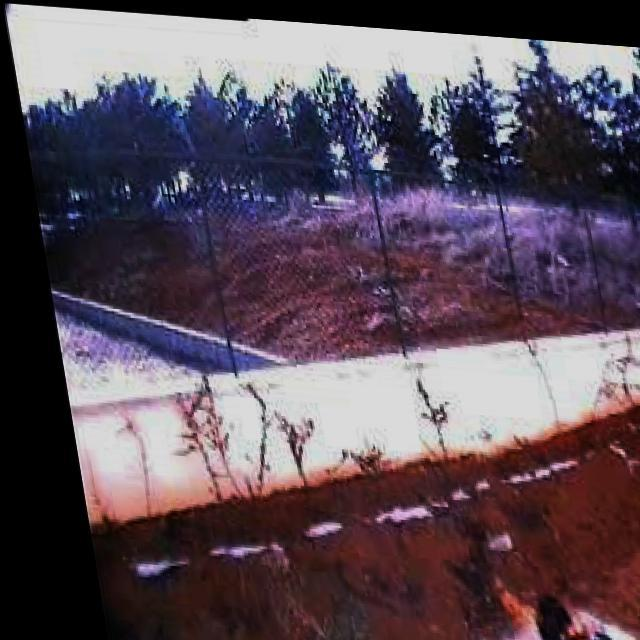Fire: (437, 528, 612, 639)
